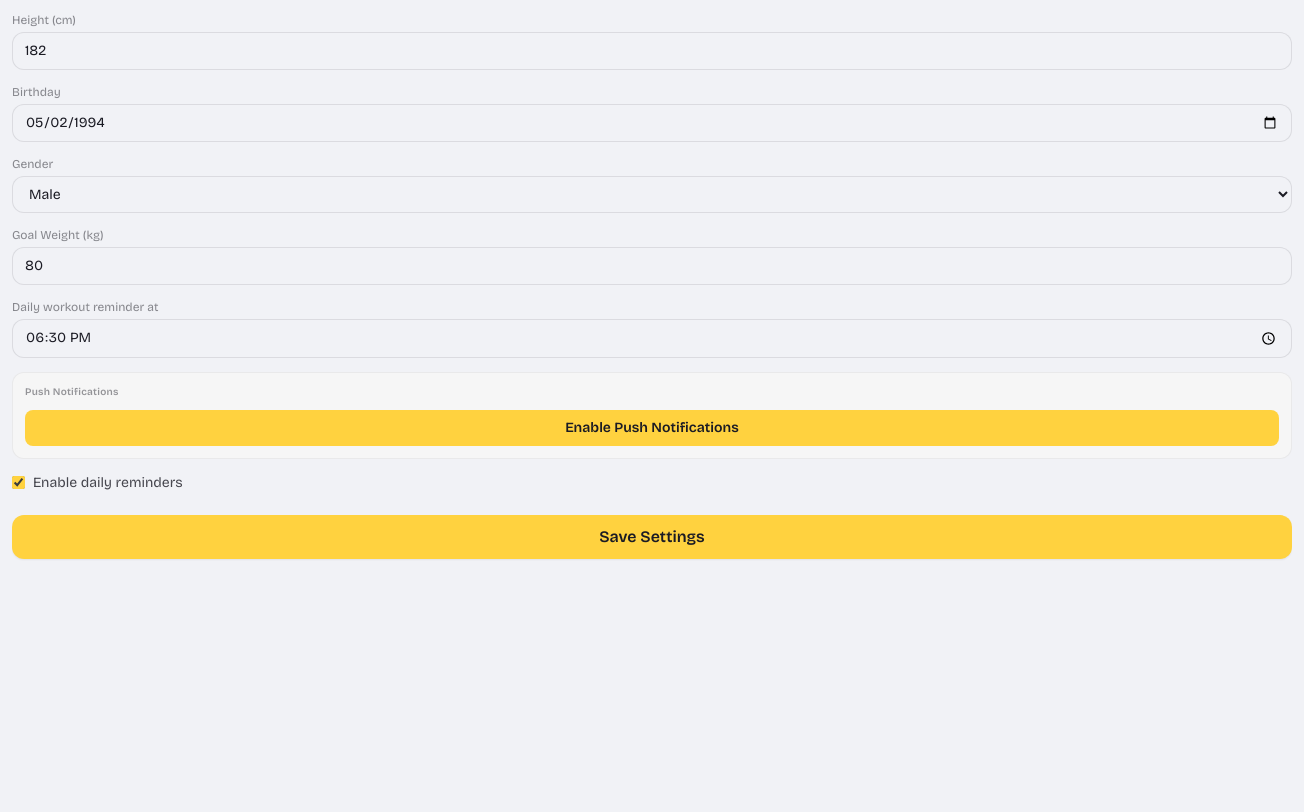
Test: HealthSettingsSection › offers Enable when granted but no subscription is live, then activates
Click the button "Enable Push Notifications".
click(652, 428)  # box [25,410,1279,446]
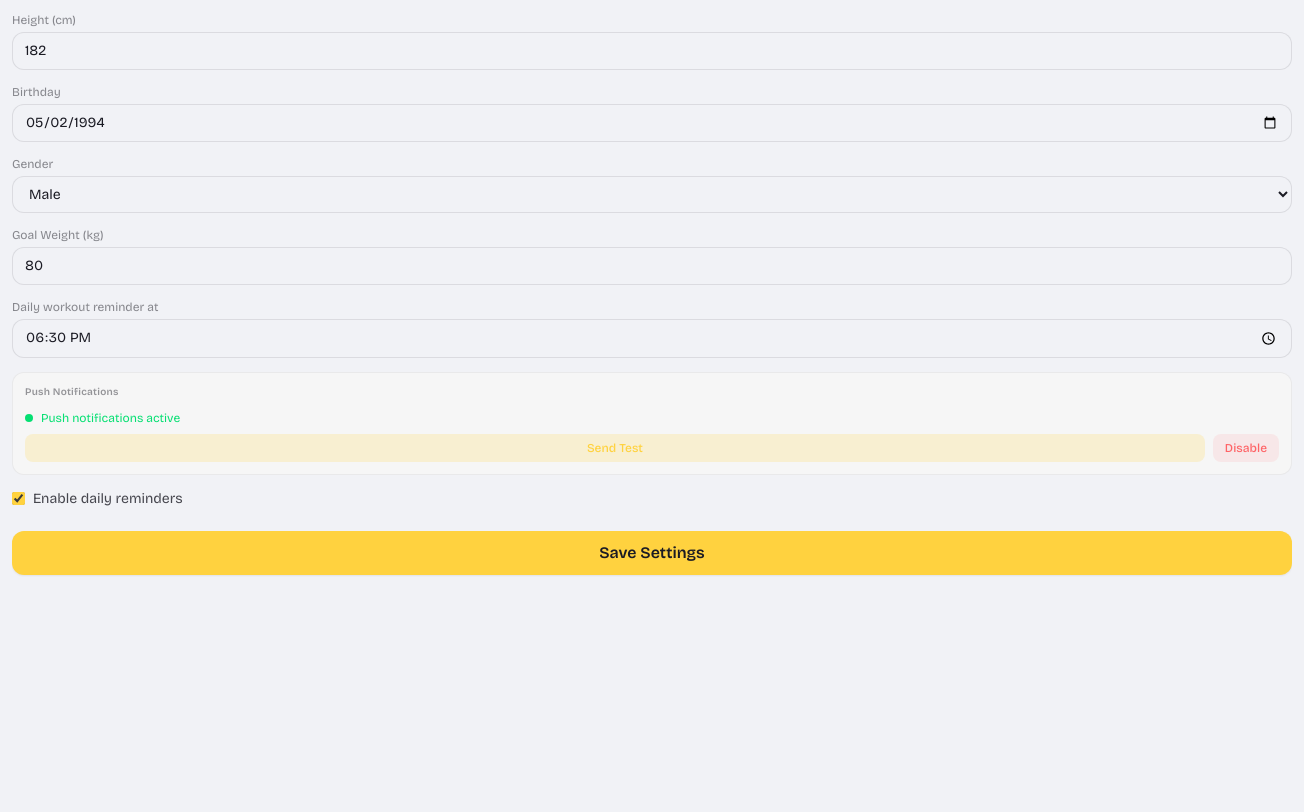
Check: the text "Push notifications active" is shown, box [41,410,180,426]
